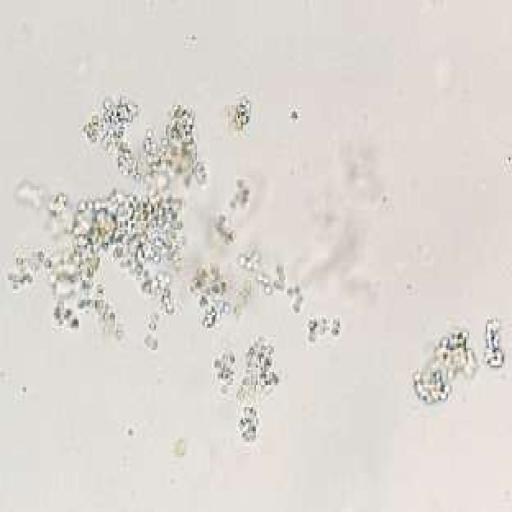BFU-E: (8, 96, 202, 330), (414, 328, 476, 403), (192, 267, 230, 326), (484, 322, 504, 365)
